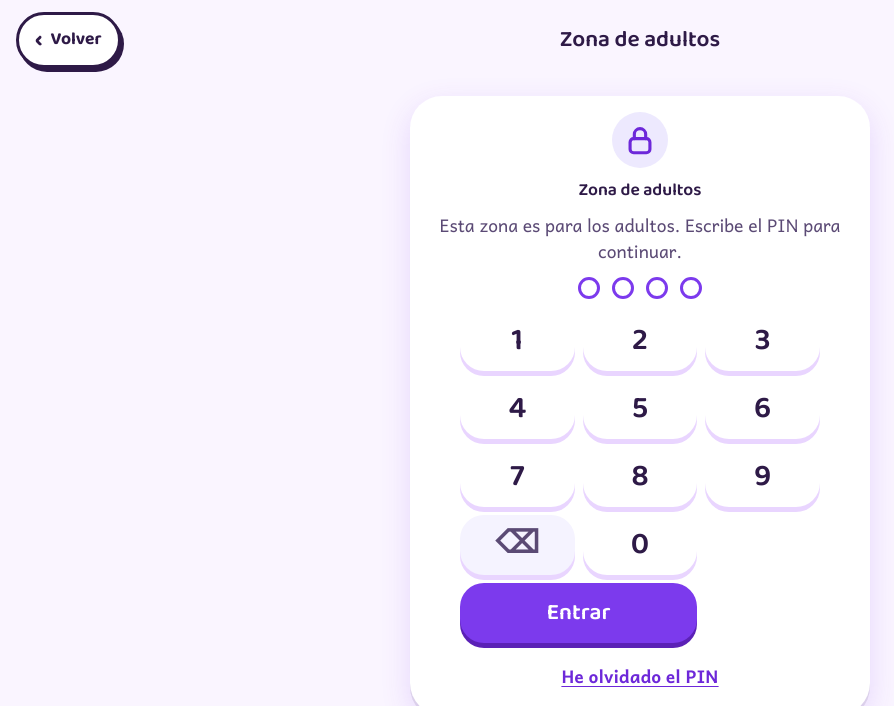
AdultGate › reaches the password route when signed in
Step 1. Click the button "He olvidado el PIN" → (640, 677), box [553,655,727,699]
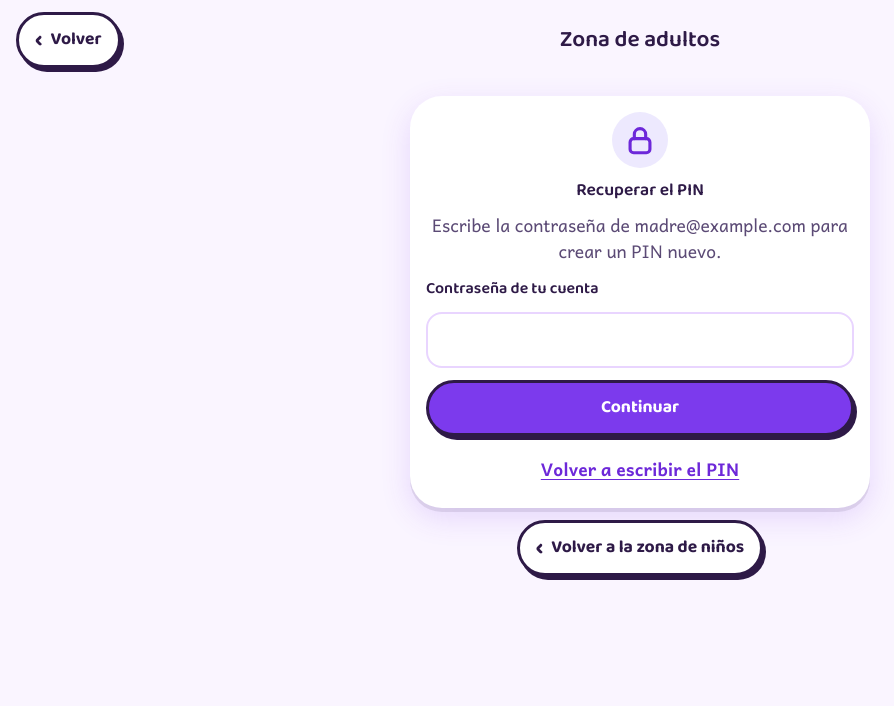
Step 2. Type "secreta123" into the password field labelled "Contraseña de tu cuenta" → (640, 340), box [426,312,854,368]
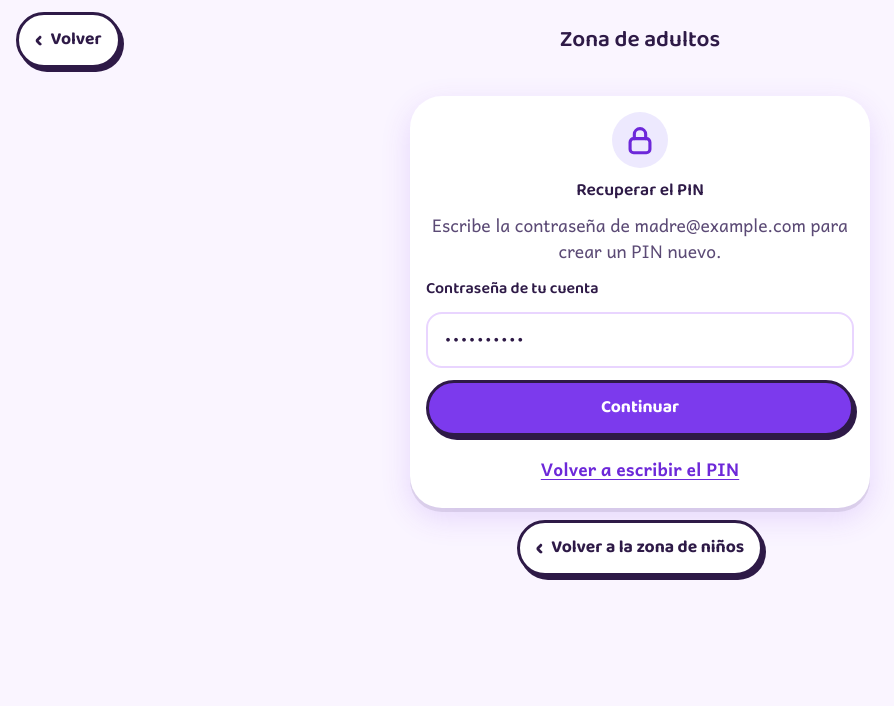
Step 3. Click the button "Continuar" → (640, 408), box [426,380,854,436]
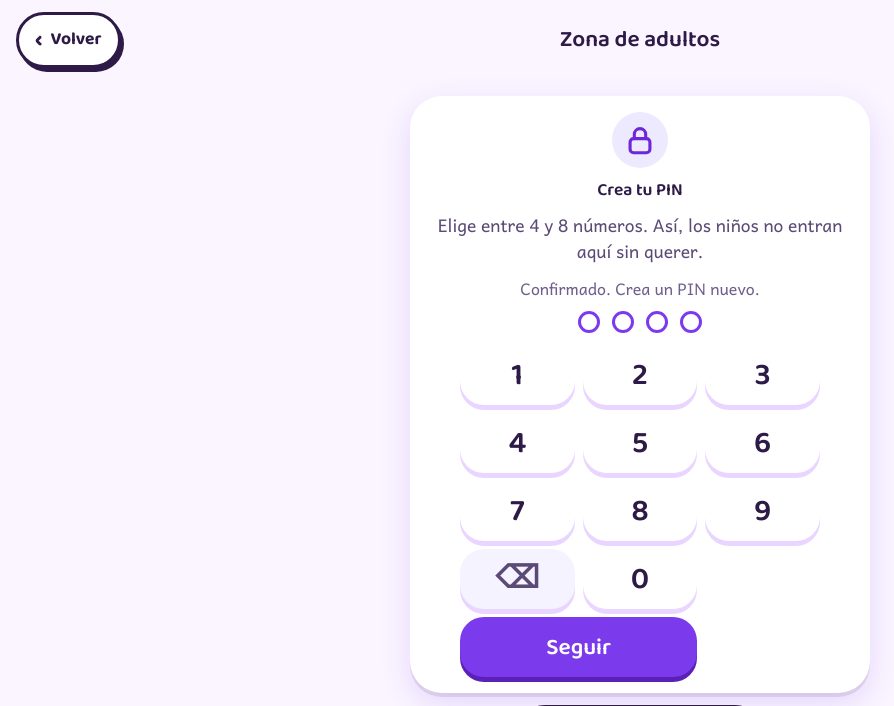
expect the heading "Crea tu PIN" is shown: met, box [597,180,683,200]
